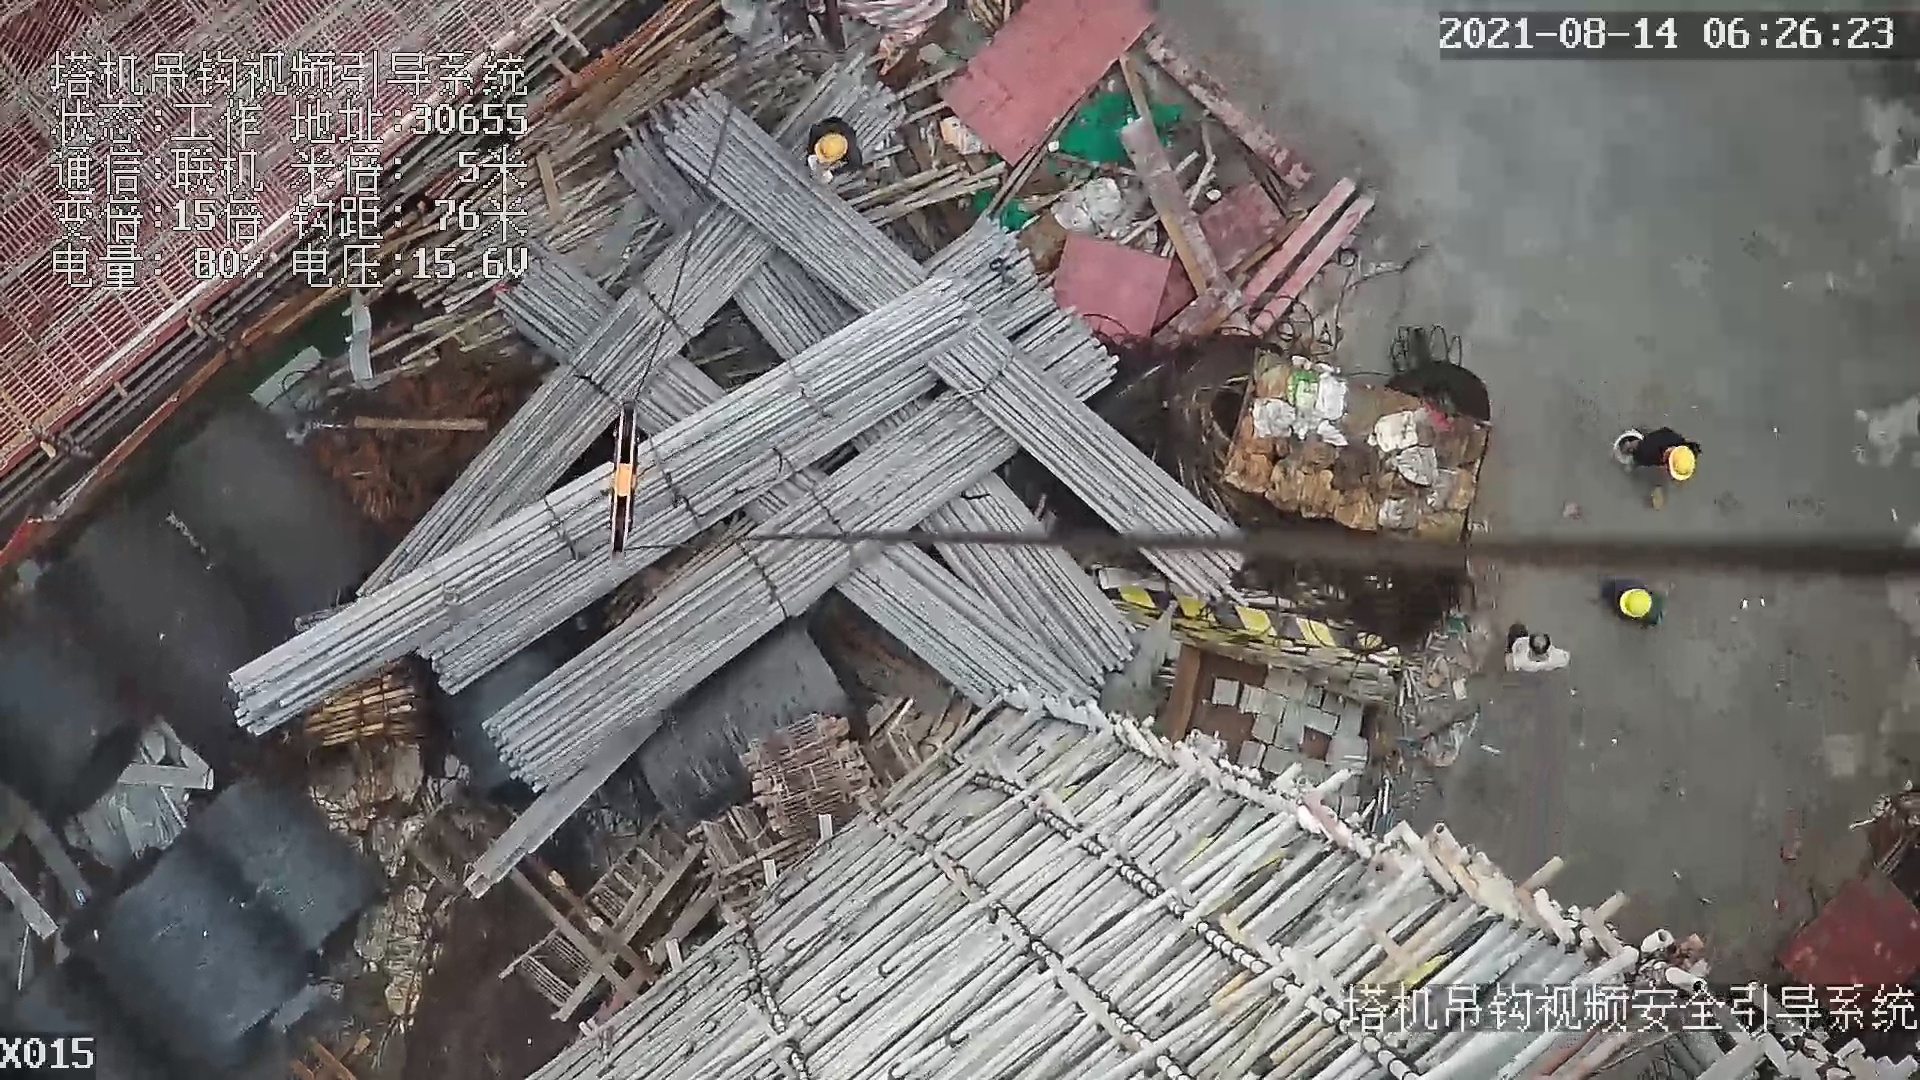helmet: (1614, 586, 1655, 619), (817, 132, 844, 168), (1669, 448, 1693, 475)
hook: (597, 397, 649, 560)
person: (1481, 613, 1569, 674), (1617, 423, 1703, 481), (806, 122, 862, 185), (1601, 578, 1663, 631)
